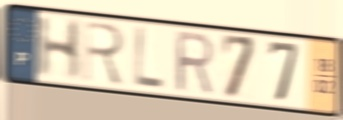7: (219, 32, 259, 102), (265, 38, 304, 105)
H: (36, 15, 85, 83)
L: (132, 23, 166, 93)
R: (82, 18, 127, 87), (173, 29, 216, 97)
